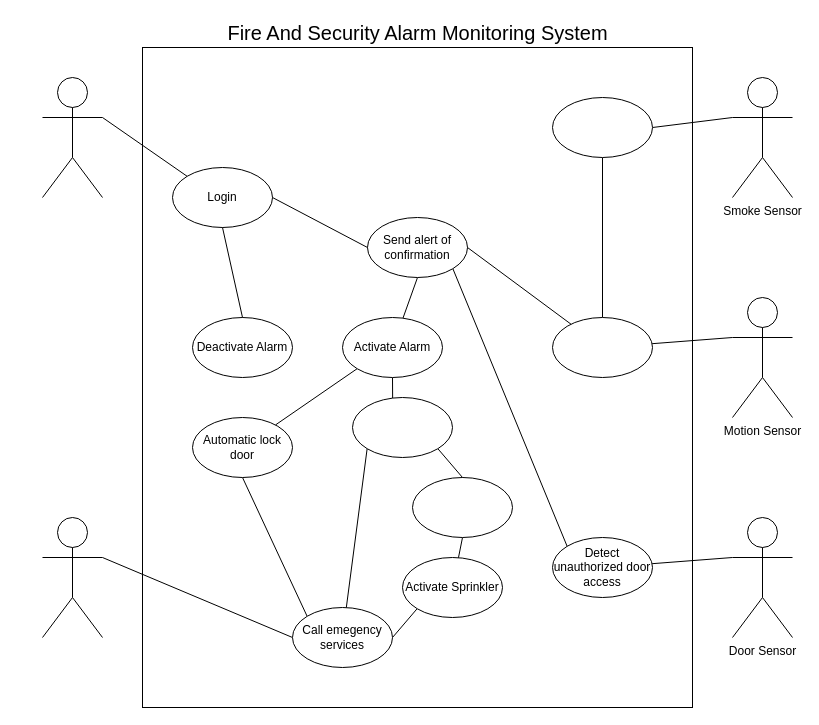
Image size: 819x725. Some labels were removed from this diagram. Each missing label, with the box of its shape:
Activate exit path and audible signal: (352, 396, 452, 458)
Admin: (42, 76, 102, 198)
Detect people: (552, 316, 652, 378)
Detect smoke or burning fire: (552, 96, 652, 158)
Emergency Services: (42, 516, 102, 638)
No movement detected: (412, 476, 512, 538)
